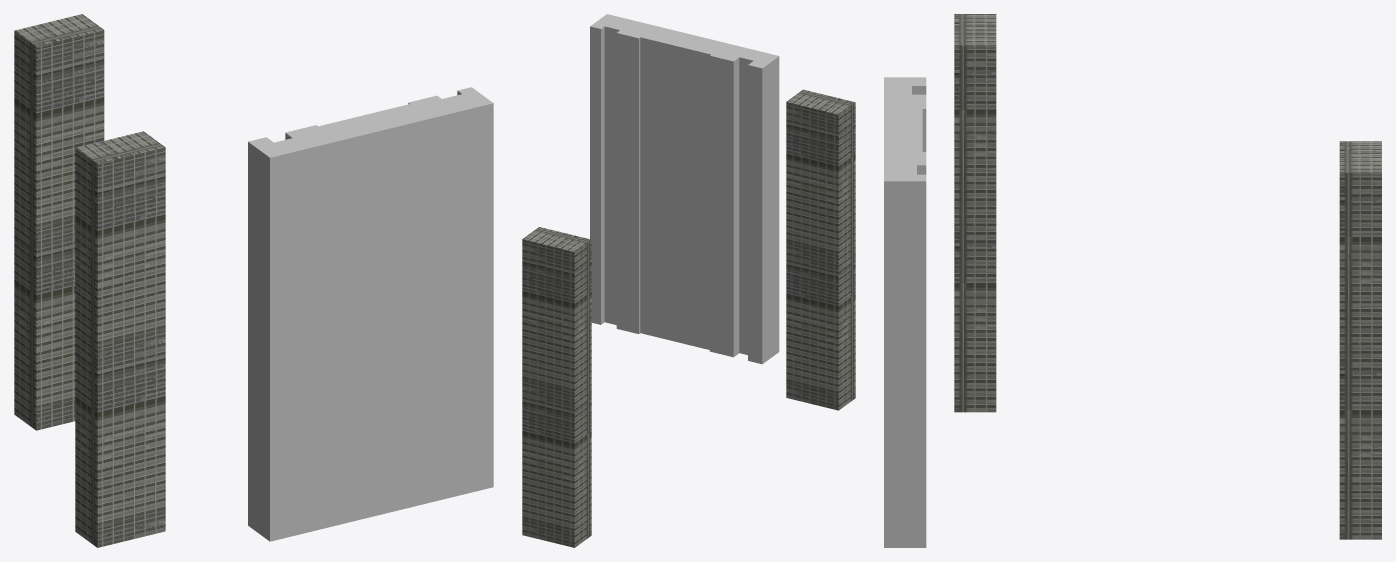
The model's file is SM_NeoLD_06_Block_03.fbx.
3 views of the same model, side by side, from view 1: azimuth 30°, elevation 25°; view 2: azimuth 150°, elevation 25°; view 3: azimuth 270°, elevation 25° (orthographic). The views are drawn at different scales.
Visible parts, largest first — view 1: SM_NeoLD_06_Block_03; view 2: SM_NeoLD_06_Block_03; view 3: SM_NeoLD_06_Block_03.
Part boxes in pixels (box(x1,y1,x2,y2)): SM_NeoLD_06_Block_03: box(14, 14, 493, 547); SM_NeoLD_06_Block_03: box(522, 14, 855, 547); SM_NeoLD_06_Block_03: box(884, 14, 1381, 547).
Bounding box in the file's own units: 17687 × 21101 × 22218.
